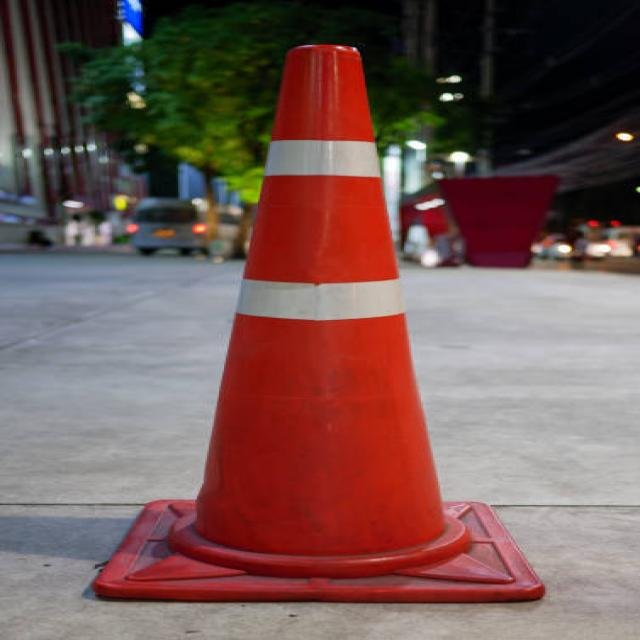Traffic Cone: (59, 23, 588, 631)
